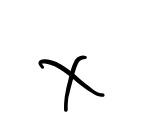mult: (37, 57, 104, 112)
